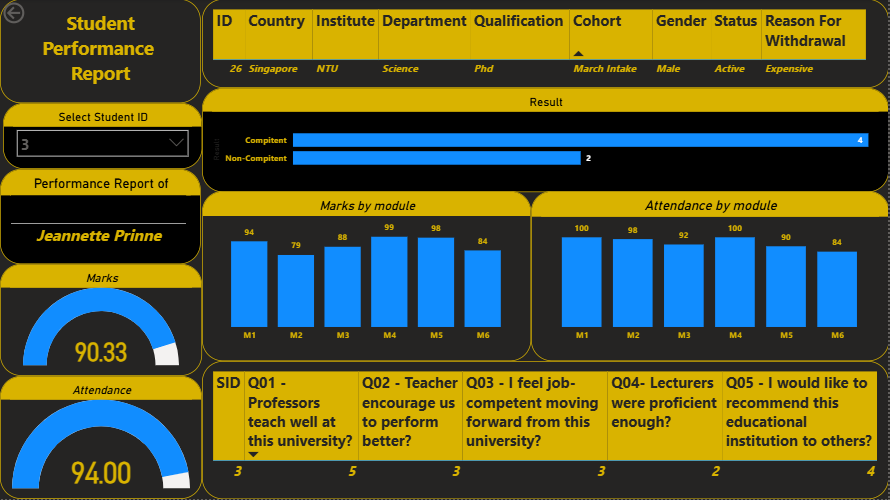

What the dashboard file says about the page in this screenshot:
{"tool":"powerbi","page":{"name":"Page 1","canvas":[1280,720],"ordinal":0},"visuals":[{"type":"textbox","box":[0,0,289.4,149.8],"z":0},{"type":"tableEx","fields":{"Values":["Student.ID","SOC.Country","SOC.Institute","SOC.Department","SOC.Qualification","Cohort.Cohort","Student.Gender","Student.Status","Student.Reason For Withdrawal"]},"box":[290.9,0,989.3,128.2],"z":1000},{"type":"actionButton","box":[0,0,100,40],"z":2000},{"type":"slicer","title":"Select Student ID","fields":{"Values":["Student.Student ID"]},"box":[4.3,149.8,286.6,95],"z":3000},{"type":"tableEx","title":"Performance Report of","fields":{"Values":["Student.Student Name"]},"box":[0,244.8,289.4,136.8],"z":4000},{"type":"barChart","title":"Result","fields":{"Category":["Attend.Result"],"Y":["CountNonNull(Attend.Marks)"]},"box":[290.9,128.2,989.3,149.8],"z":5000},{"type":"columnChart","title":"Marks by module","fields":{"Category":["Attend.module ID"],"Y":["Sum(Attend.Marks)"]},"box":[290.9,276.5,473.8,244.8],"z":6000},{"type":"columnChart","title":"Attendance  by module","fields":{"Category":["Attend.module ID"],"Y":["Sum(Attend.Attendance )"]},"box":[764.6,276.5,515.5,244.8],"z":7000},{"type":"gauge","title":"Marks","fields":{"Y":["Avg(Attend.Marks)"]},"box":[0,381.6,290.9,161.3],"z":8000},{"type":"gauge","title":"Attendance ","fields":{"Y":["Avg(Attend.Attendance )"]},"box":[0,542.9,290.9,177.1],"z":9000},{"type":"tableEx","fields":{"Values":["Feedback.SID","Sum(Feedback.Q01 - Professors teach well at this university?)","Sum(Feedback.Q02 - Teacher encourage us to perform better?)","Sum(Feedback.Q03 - I feel job-competent moving forward from this university?)","Sum(Feedback.Q04- Lecturers were proficient enough?)","Sum(Feedback.Q05 - I would like to recommend this educational institution to others?)"]},"box":[290.9,521.3,989.3,198.7],"z":10000}]}

Visuals, with their boxes in screenshot pixels (x1, y1, x2, y2), scaled from the page's 1280x720 canvas onto the 893x502 screenshot:
textbox: <bbox>0, 0, 202, 104</bbox>
tableEx - Student.ID x SOC.Country: <bbox>203, 0, 892, 89</bbox>
actionButton: <bbox>0, 0, 70, 28</bbox>
"Select Student ID" slicer: <bbox>3, 104, 203, 171</bbox>
"Performance Report of" tableEx: <bbox>0, 171, 202, 266</bbox>
"Result" barChart: <bbox>203, 89, 892, 194</bbox>
"Marks by module" columnChart: <bbox>203, 193, 533, 363</bbox>
"Attendance  by module" columnChart: <bbox>533, 193, 892, 363</bbox>
"Marks" gauge: <bbox>0, 266, 203, 379</bbox>
"Attendance " gauge: <bbox>0, 379, 203, 501</bbox>
tableEx - Feedback.SID x Sum(Feedback.Q01 - Professors teach well at this university?): <bbox>203, 363, 892, 501</bbox>
